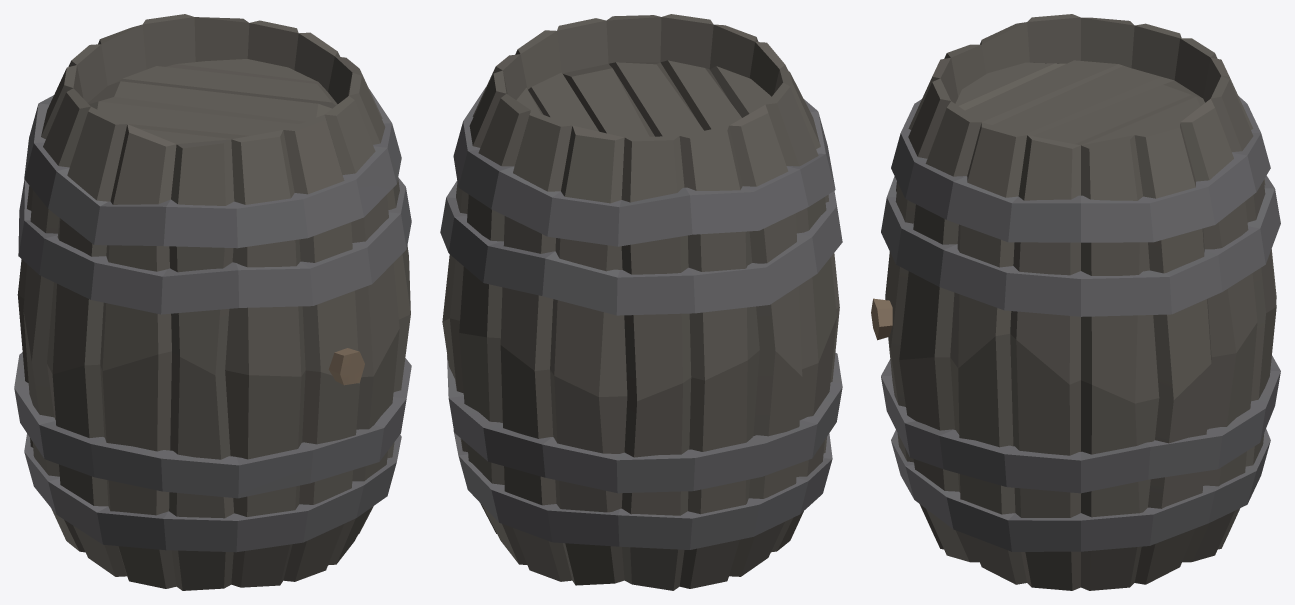
The model's file is Barile_Scuro.fbx.
3 views of the same model, side by side, from view 1: azimuth 30°, elevation 25°; view 2: azimuth 150°, elevation 25°; view 3: azimuth 270°, elevation 25° (orthographic).
Visible parts, largest first — view 1: BARILE SCURO; view 2: BARILE SCURO; view 3: BARILE SCURO.
Part boxes in pixels (left/top/right/bottom): BARILE SCURO: left=14, top=14, right=411, bottom=590; BARILE SCURO: left=440, top=14, right=842, bottom=590; BARILE SCURO: left=871, top=14, right=1280, bottom=590.
Bounding box in the file's own units: 57.85 × 72.14 × 59.28.
1 material, 1 textured.
